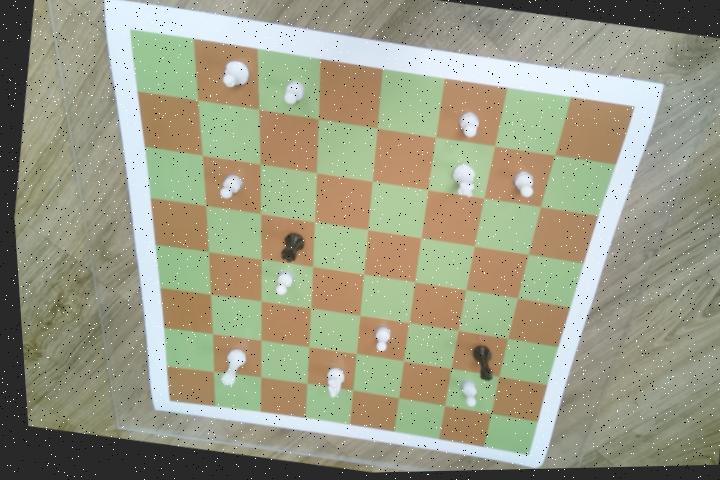chessboard-detect: (127, 28, 633, 458)
